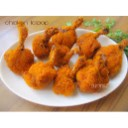chicken_lollipop: (7, 22, 33, 75), (56, 49, 83, 99), (97, 34, 128, 75), (81, 52, 110, 94), (31, 49, 56, 87), (79, 23, 108, 54), (52, 18, 81, 48)
